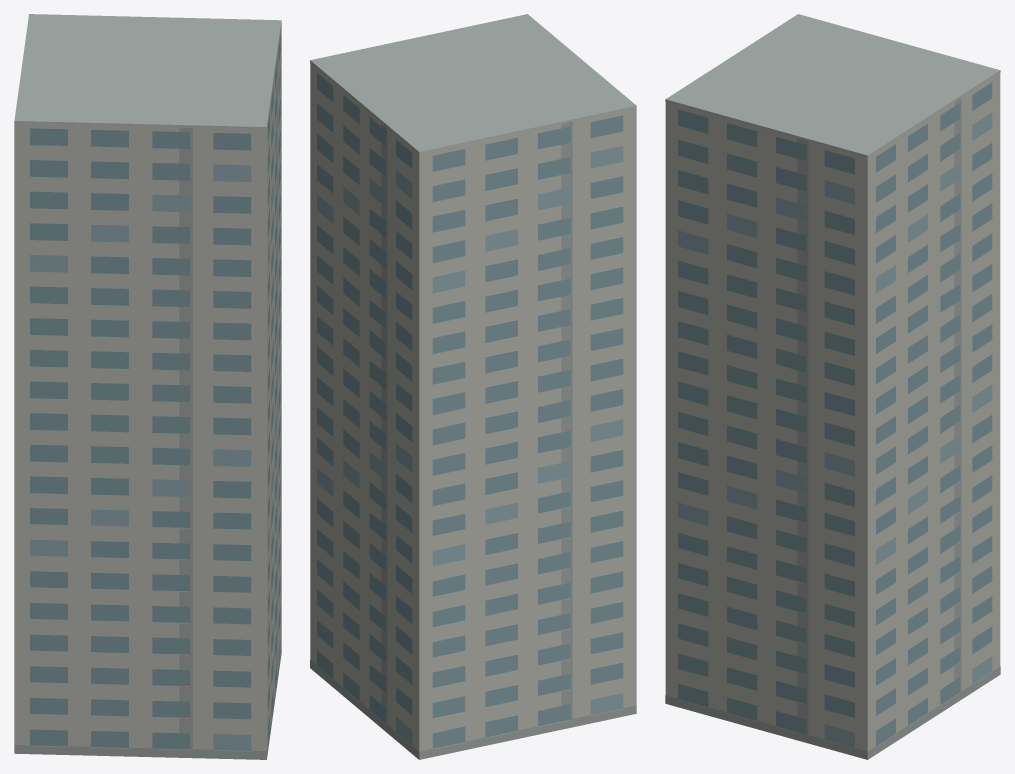
Rendered from residential-34be9079-6595-4bb8-915c-1aac4ca33472.glb.
3 views of the same model, side by side, from view 1: azimuth 30°, elevation 25°; view 2: azimuth 150°, elevation 25°; view 3: azimuth 270°, elevation 25° (orthographic). The views are drawn at different scales.
Parts seen in each view (by area): view 1: residential-34be9079-6595-4bb8-915c-1aac4ca33472.tmp; view 2: residential-34be9079-6595-4bb8-915c-1aac4ca33472.tmp; view 3: residential-34be9079-6595-4bb8-915c-1aac4ca33472.tmp.
Part boxes in pixels (x1,y1,x2,y2): residential-34be9079-6595-4bb8-915c-1aac4ca33472.tmp: [14, 14, 281, 759]; residential-34be9079-6595-4bb8-915c-1aac4ca33472.tmp: [310, 14, 636, 759]; residential-34be9079-6595-4bb8-915c-1aac4ca33472.tmp: [665, 14, 1000, 759].
Size of the model in its own units: 30.63 by 61 by 30.65.
